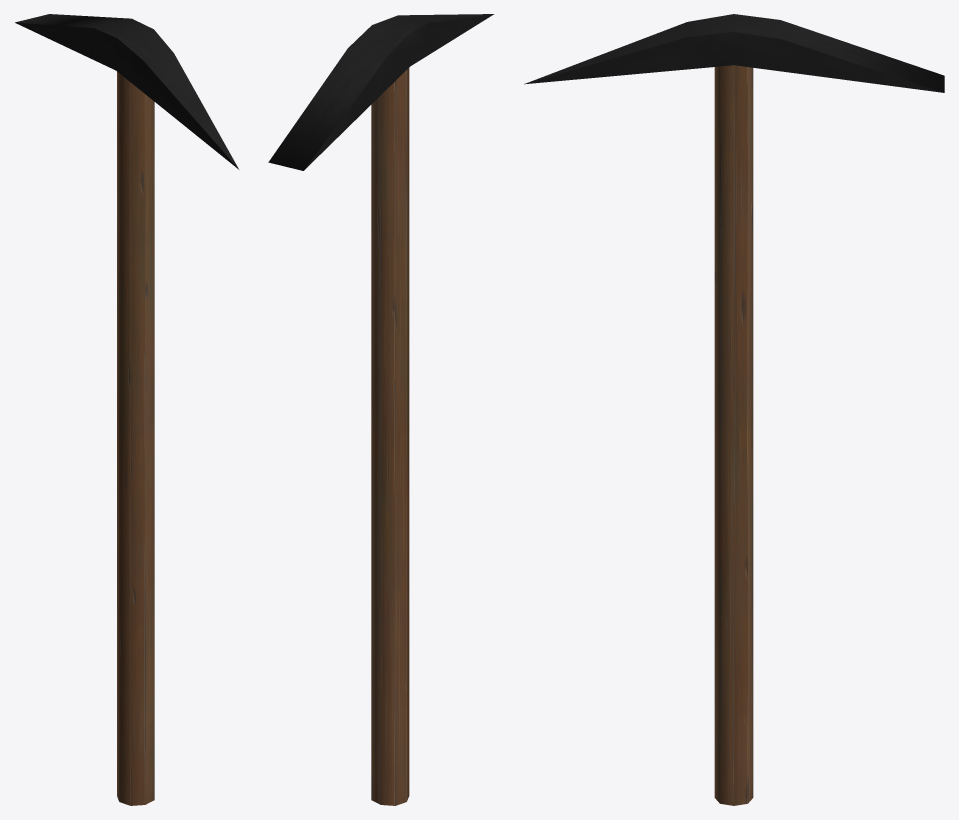
File: Pickaxe.fbx
3 views of the same model, side by side, from view 1: azimuth 30°, elevation 25°; view 2: azimuth 150°, elevation 25°; view 3: azimuth 270°, elevation 25° (orthographic).
Parts seen in each view (by area): view 1: Cube; view 2: Cube; view 3: Cube.
Boxes of the visible parts, bbox=[...] form: Cube: bbox=[15, 14, 238, 805]; Cube: bbox=[268, 14, 493, 805]; Cube: bbox=[524, 14, 944, 805].
Size of the model in its own units: 5.46 by 102 by 50.
